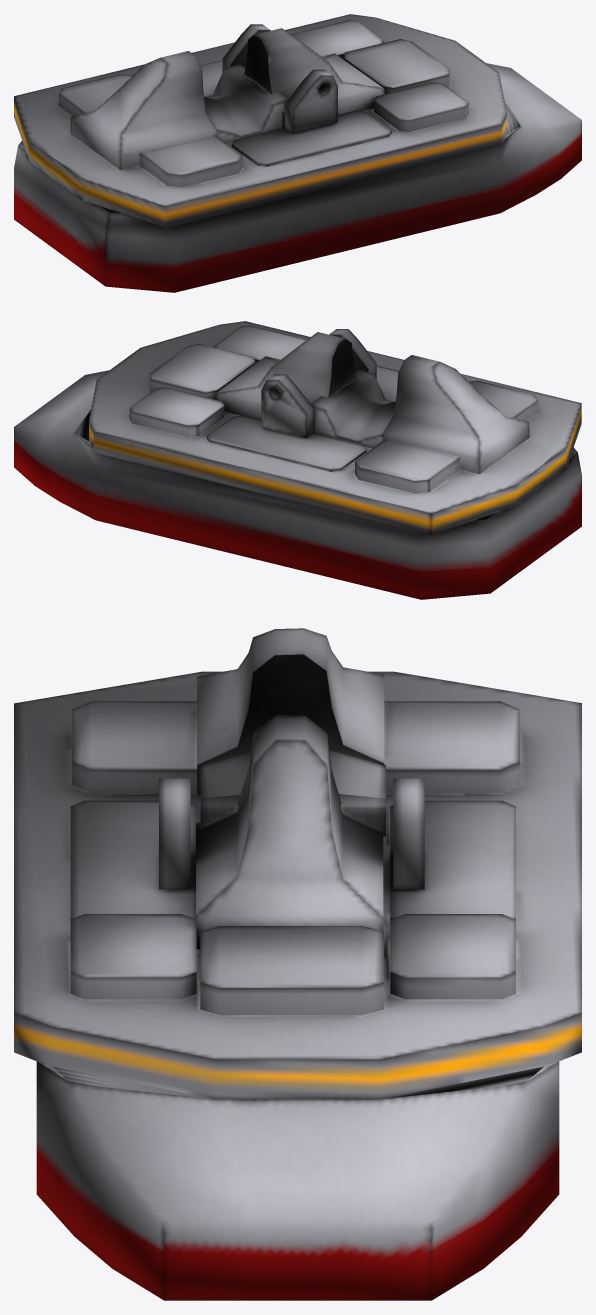
File: l_foot.obj
3 views of the same model, one above another, from view 1: azimuth 30°, elevation 25°; view 2: azimuth 150°, elevation 25°; view 3: azimuth 270°, elevation 25° (orthographic). The views are drawn at different scales.
Parts seen in each view (by area): view 1: <dummy_root>; view 2: <dummy_root>; view 3: <dummy_root>.
Boxes of the visible parts, <box> form: <dummy_root>: <box>14,14,581,292</box>; <dummy_root>: <box>14,321,581,599</box>; <dummy_root>: <box>14,628,581,1300</box>.
Bounding box in the file's own units: 0.2629 × 0.0866 × 0.1398.
Materials: 1 (1 with a texture image).
